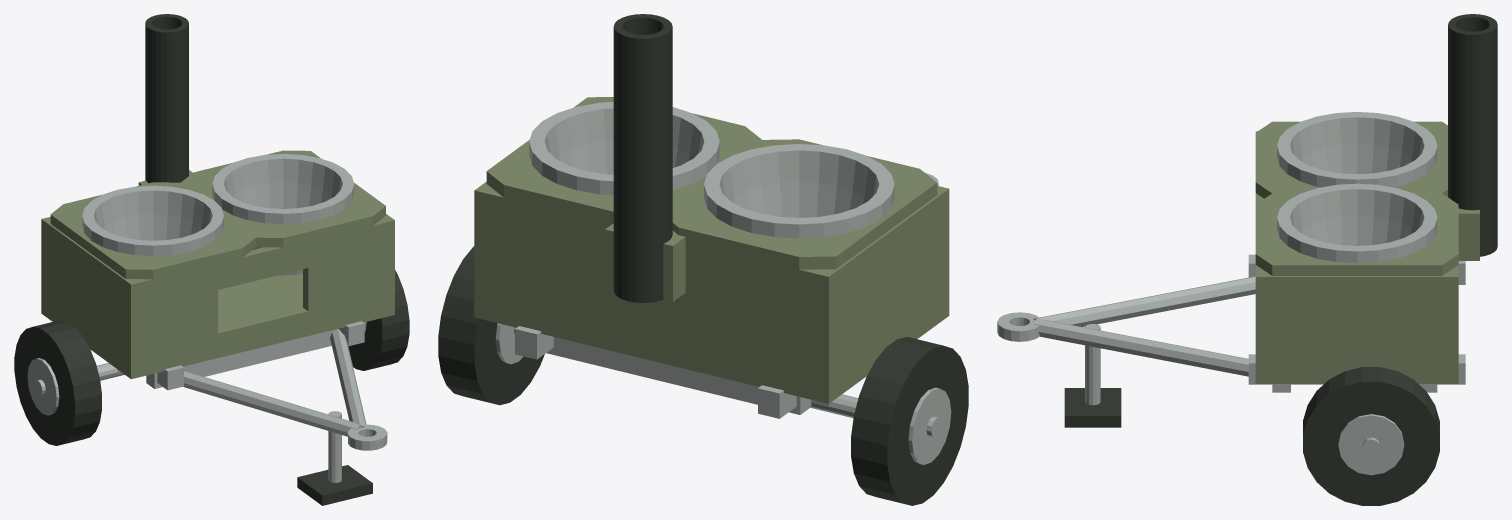
3 renders of one model, left to right at view 1: azimuth 30°, elevation 25°; view 2: azimuth 150°, elevation 25°; view 3: azimuth 270°, elevation 25°, orthographic. The views are drawn at different scales.
Parts seen in each view (by area): view 1: RCompleteDeepCookingWell, LCompleteDeepCookingWell, FireboxSideL, WholeFireboxFloor, LWholeTyre, WholeRearFlue, FrontUpperHeader, LWholePerforatedStoveTop, RWholePerforatedStoveTop, FrontMouthJambR, FrontMouthJambL, FrontLowerThreshold (+13 smaller); view 2: WholeFireboxRear, WholeRearFlue, LCompleteDeepCookingWell, LWholeTyre, FireboxSideL, RCompleteDeepCookingWell, LWholePerforatedStoveTop, WholeFireboxFloor, RWholeTyre, RWholePerforatedStoveTop, WholeChassisCrossmember0.3, LWholeWheelHub (+5 smaller); view 3: FireboxSideR, RWholeTyre, RCompleteDeepCookingWell, WholeRearFlue, LCompleteDeepCookingWell, RWholePerforatedStoveTop, LWholePerforatedStoveTop, RConvergingDrawbar, LConvergingDrawbar, RWholeWheelHub, WholeGroundParkingPad, WholeFireboxFloor (+5 smaller).
Part boxes in pixels (x1,y1,x2,y2): RCompleteDeepCookingWell: (212, 154, 354, 275); LCompleteDeepCookingWell: (82, 185, 223, 255); FireboxSideL: (46, 222, 140, 365); WholeFireboxFloor: (41, 273, 394, 379); LWholeTyre: (14, 320, 101, 445); WholeRearFlue: (145, 14, 188, 183); FrontUpperHeader: (136, 219, 385, 308); LWholePerforatedStoveTop: (50, 182, 255, 279); RWholePerforatedStoveTop: (181, 150, 385, 247); FrontMouthJambR: (303, 249, 385, 311); FrontMouthJambL: (140, 290, 217, 352); FrontLowerThreshold: (140, 292, 385, 363); WholeFireboxRear: (474, 185, 835, 385); WholeRearFlue: (613, 14, 672, 302); LCompleteDeepCookingWell: (704, 144, 894, 238); LWholeTyre: (851, 337, 968, 505); FireboxSideL: (826, 186, 949, 380); RCompleteDeepCookingWell: (529, 102, 719, 195); LWholePerforatedStoveTop: (672, 139, 937, 269); WholeFireboxFloor: (474, 298, 949, 403); RWholeTyre: (438, 246, 544, 405); RWholePerforatedStoveTop: (486, 97, 761, 223); WholeChassisCrossmember0.3: (546, 337, 811, 414); LWholeWheelHub: (908, 387, 951, 464); FireboxSideR: (1255, 272, 1446, 368); RWholeTyre: (1303, 367, 1439, 505); RCompleteDeepCookingWell: (1277, 183, 1437, 263); WholeRearFlue: (1448, 14, 1497, 256); LCompleteDeepCookingWell: (1277, 112, 1437, 187); RWholePerforatedStoveTop: (1255, 193, 1458, 275); LWholePerforatedStoveTop: (1255, 121, 1447, 198); RConvergingDrawbar: (1033, 319, 1248, 376); LConvergingDrawbar: (1033, 276, 1255, 326); RWholeWheelHub: (1338, 414, 1404, 475); WholeGroundParkingPad: (1064, 388, 1121, 427); WholeFireboxFloor: (1255, 369, 1458, 383).
Bounding box in the file's own units: 1.92 × 1.82 × 2.12.
